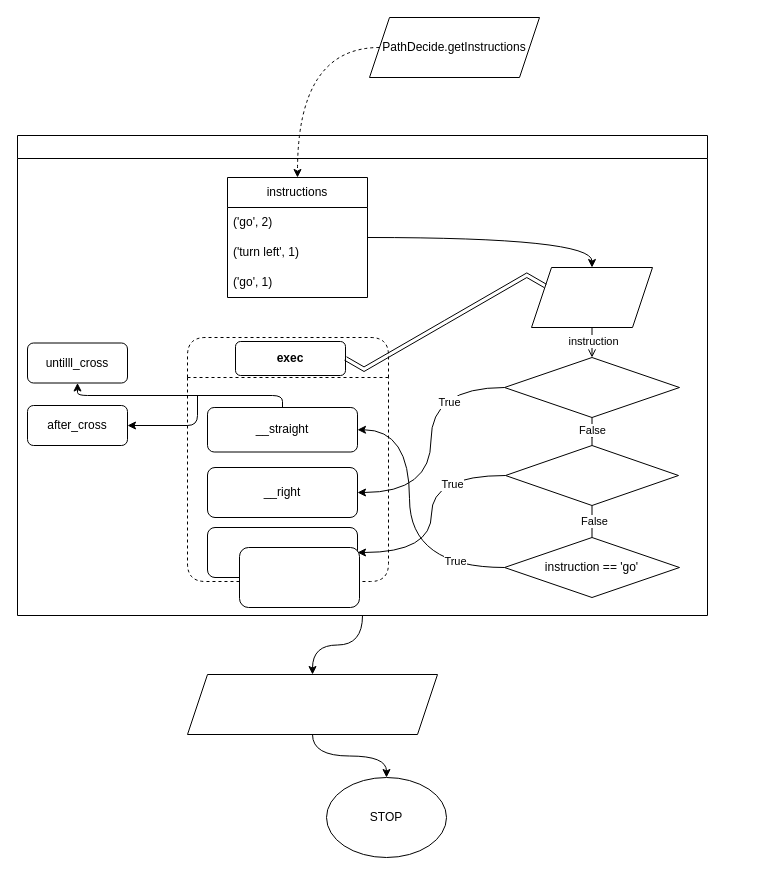
Some shapes in this 775 by 875 pixel diagram are drawn without their labels. Here are the shapes that lost their labels. From the top down, the box of each, then its label:
(530, 266, 652, 328): car.exec
(16, 134, 708, 616): Iterative process
(504, 356, 680, 418): instruction == 'turn right'
(504, 444, 678, 506): instruction == 'turn left'
(186, 674, 438, 734): car.stop
